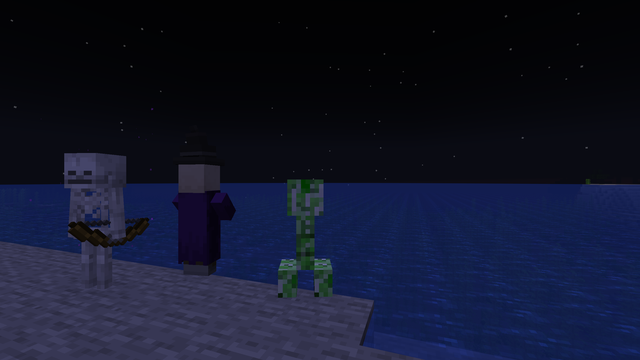creepers: (277, 173, 330, 300)
sorcieres: (172, 159, 225, 281)
squelettes: (59, 152, 130, 298)
